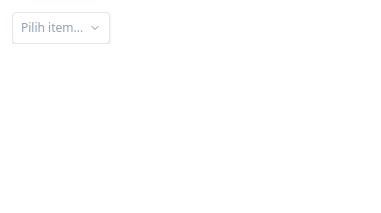
Test: Sales Invoice item selector › portals its dropdown outside the horizontally scrollable table
Click the button "Pilih item...". click: (61, 28)
box: [12,12,110,44]
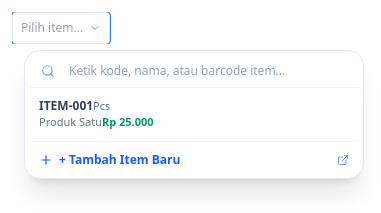
Now the button "ITEM-001 Pcs Produk Satu Rp 25.000" is shown, box [29,92,359,136]
